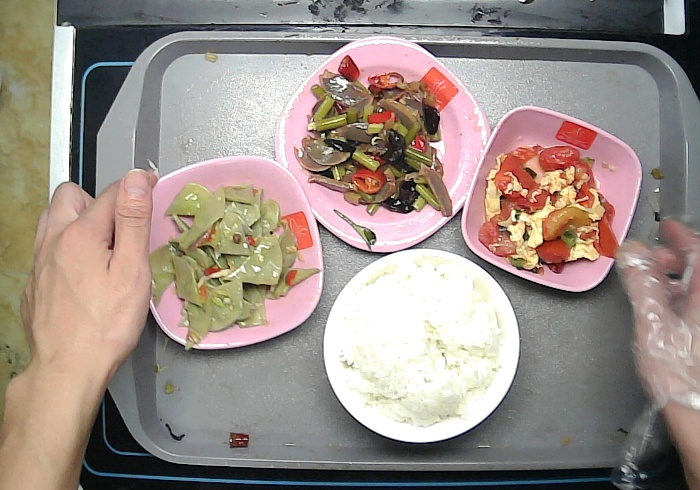SHKJ-Fan_Wan: (319, 245, 522, 448)
SHKJ-Fen_Se_Cai_Die: (132, 153, 327, 353)
SHKJ-Fen_Se_Si_Fang_Cai_Die: (272, 33, 494, 256)
SHKJ-Fen_Se_Xiao_Fang_Die: (460, 103, 645, 295)
